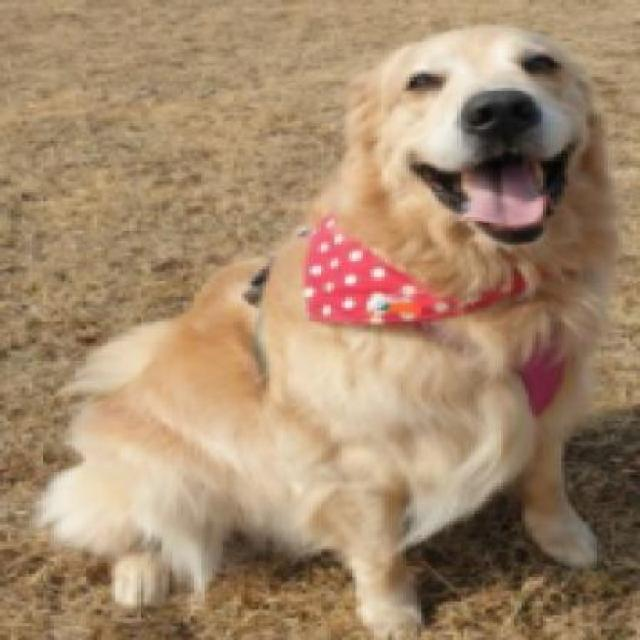Dog: (22, 21, 616, 637)
